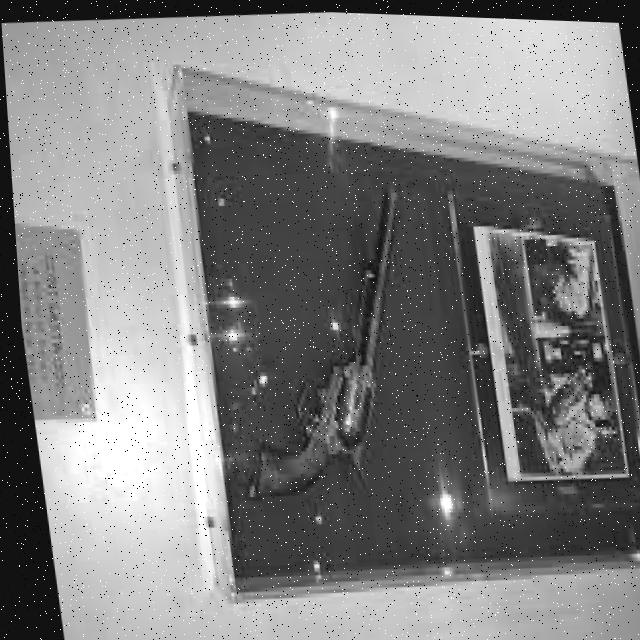pistol: (210, 180, 435, 504)
